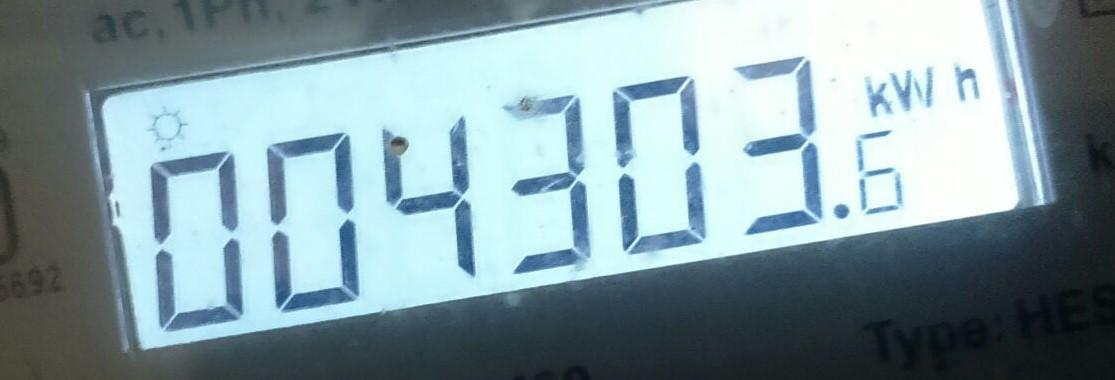.: (861, 60, 990, 117)
0: (824, 194, 865, 231)
1: (251, 114, 377, 367), (139, 124, 242, 361), (604, 76, 719, 266)
4: (481, 84, 604, 281), (726, 48, 825, 270)
5: (377, 104, 489, 296)
7: (857, 123, 926, 226)
